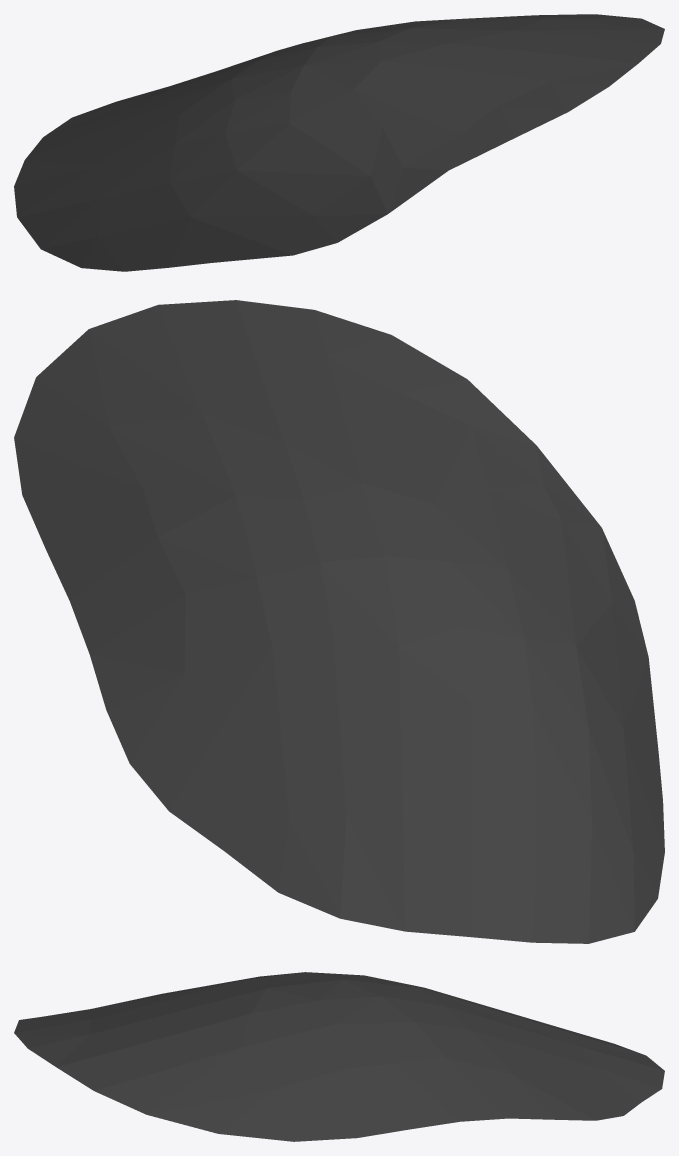
Rendered from Radius_radial_tuberosity.glb.
3 renders of one model, top to bottom at view 1: azimuth 30°, elevation 25°; view 2: azimuth 150°, elevation 25°; view 3: azimuth 270°, elevation 25°, orthographic. The views are drawn at different scales.
Visible parts, largest first — view 1: Radius_radial_tuberosity; view 2: Radius_radial_tuberosity; view 3: Radius_radial_tuberosity.
Part boxes in pixels (x1,y1,x2,y2): Radius_radial_tuberosity: (14,14,664,271); Radius_radial_tuberosity: (14,300,664,943); Radius_radial_tuberosity: (14,972,664,1141).
Bounding box in the file's own units: 0.0947 × 0.0363 × 0.0867.
Materials: 1 (1 with a texture image).
